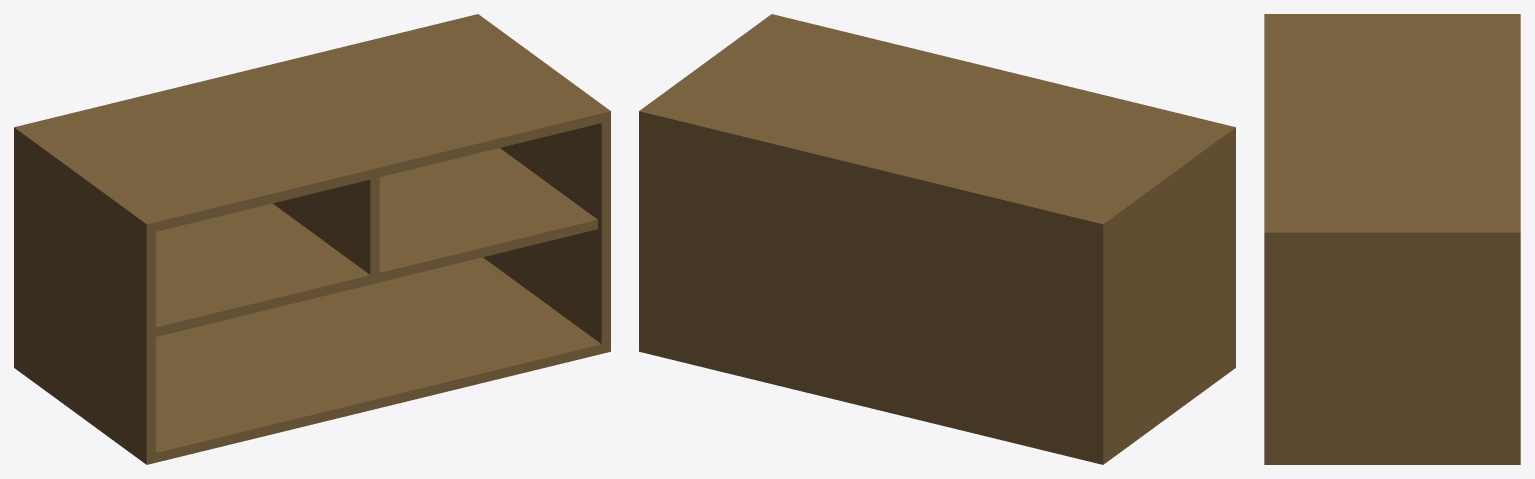
The model's file is BookCase.fbx.
3 renders of one model, left to right at view 1: azimuth 30°, elevation 25°; view 2: azimuth 150°, elevation 25°; view 3: azimuth 270°, elevation 25°, orthographic. The views are drawn at different scales.
Parts seen in each view (by area): view 1: BookCase1; view 2: BookCase1; view 3: BookCase1.
Boxes of the visible parts, <box> form: BookCase1: <box>14,14,610,464</box>; BookCase1: <box>639,14,1235,464</box>; BookCase1: <box>1264,14,1520,464</box>.
Bounding box in the file's own units: 202 × 100 × 100.
